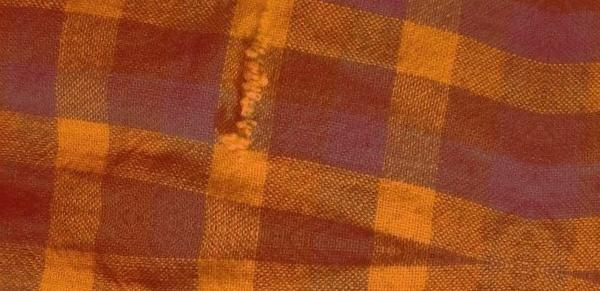knot: (218, 12, 272, 159)
